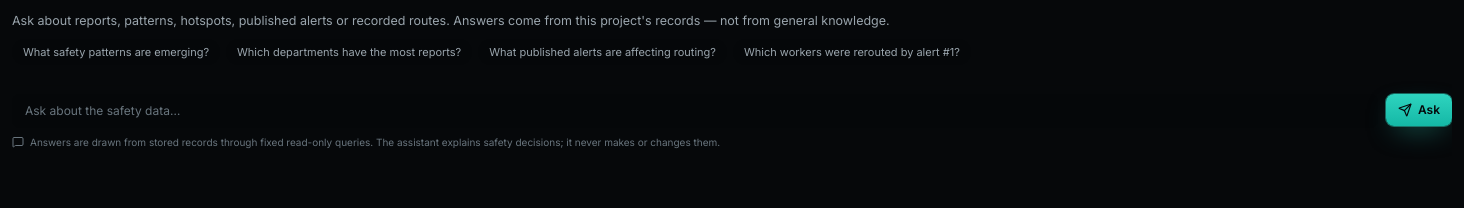
Test case: a refusal to act › is shown distinctly from a failure
Type "Publish this hotspot" into the field named "Ask the safety assistant".
click(695, 111); type("Publish this hotspot")  # box [12,94,1378,128]
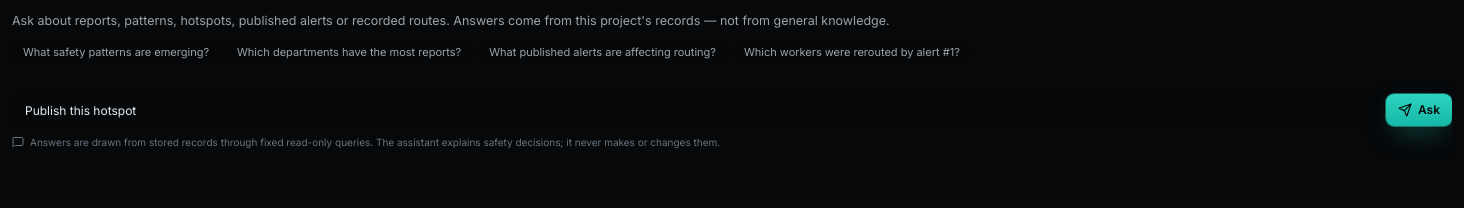
Click the button "Ask".
click(1419, 110)  # box [1386,94,1452,126]
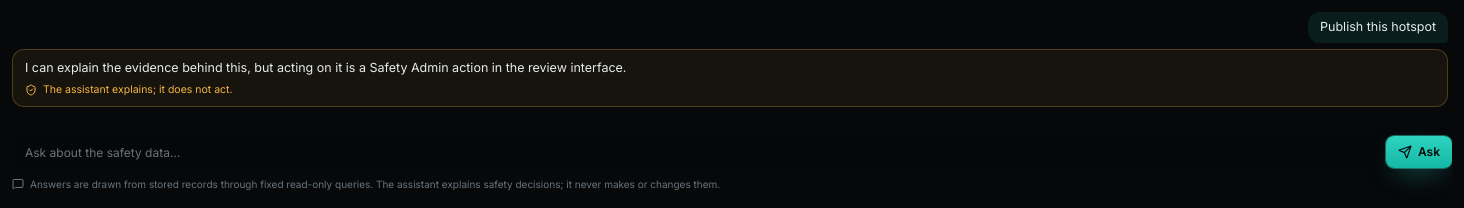
Check: the text "Safety Admin action" is shown, box [25,60,626,75]
Check: the text "The assistant explains; it does not act." is shown, box [25,83,232,96]
